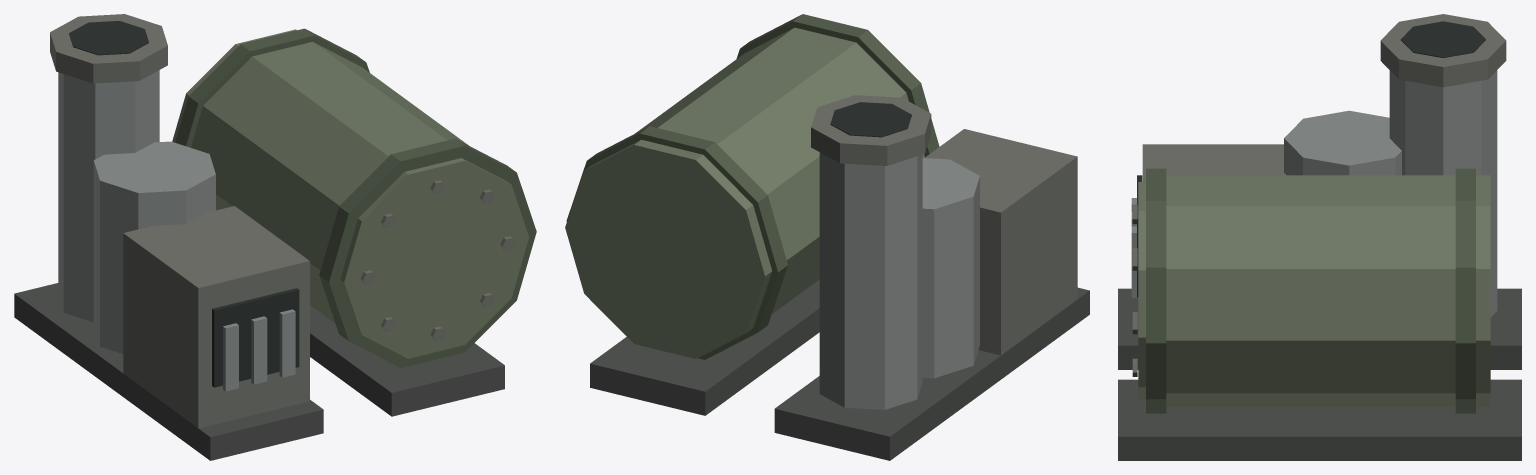
Rendered from wood_fired_generator.obj.
3 renders of one model, left to right at view 1: azimuth 30°, elevation 25°; view 2: azimuth 150°, elevation 25°; view 3: azimuth 270°, elevation 25°, orthographic. The views are drawn at different scales.
Visible parts, largest first — view 1: wood_fired_generator; view 2: wood_fired_generator; view 3: wood_fired_generator.
Part boxes in pixels (bbox=[...]): wood_fired_generator: bbox=[14, 14, 536, 460]; wood_fired_generator: bbox=[565, 14, 1089, 460]; wood_fired_generator: bbox=[1118, 14, 1521, 460].
Bounding box in the file's own units: 1.8 × 1.49 × 1.8.
